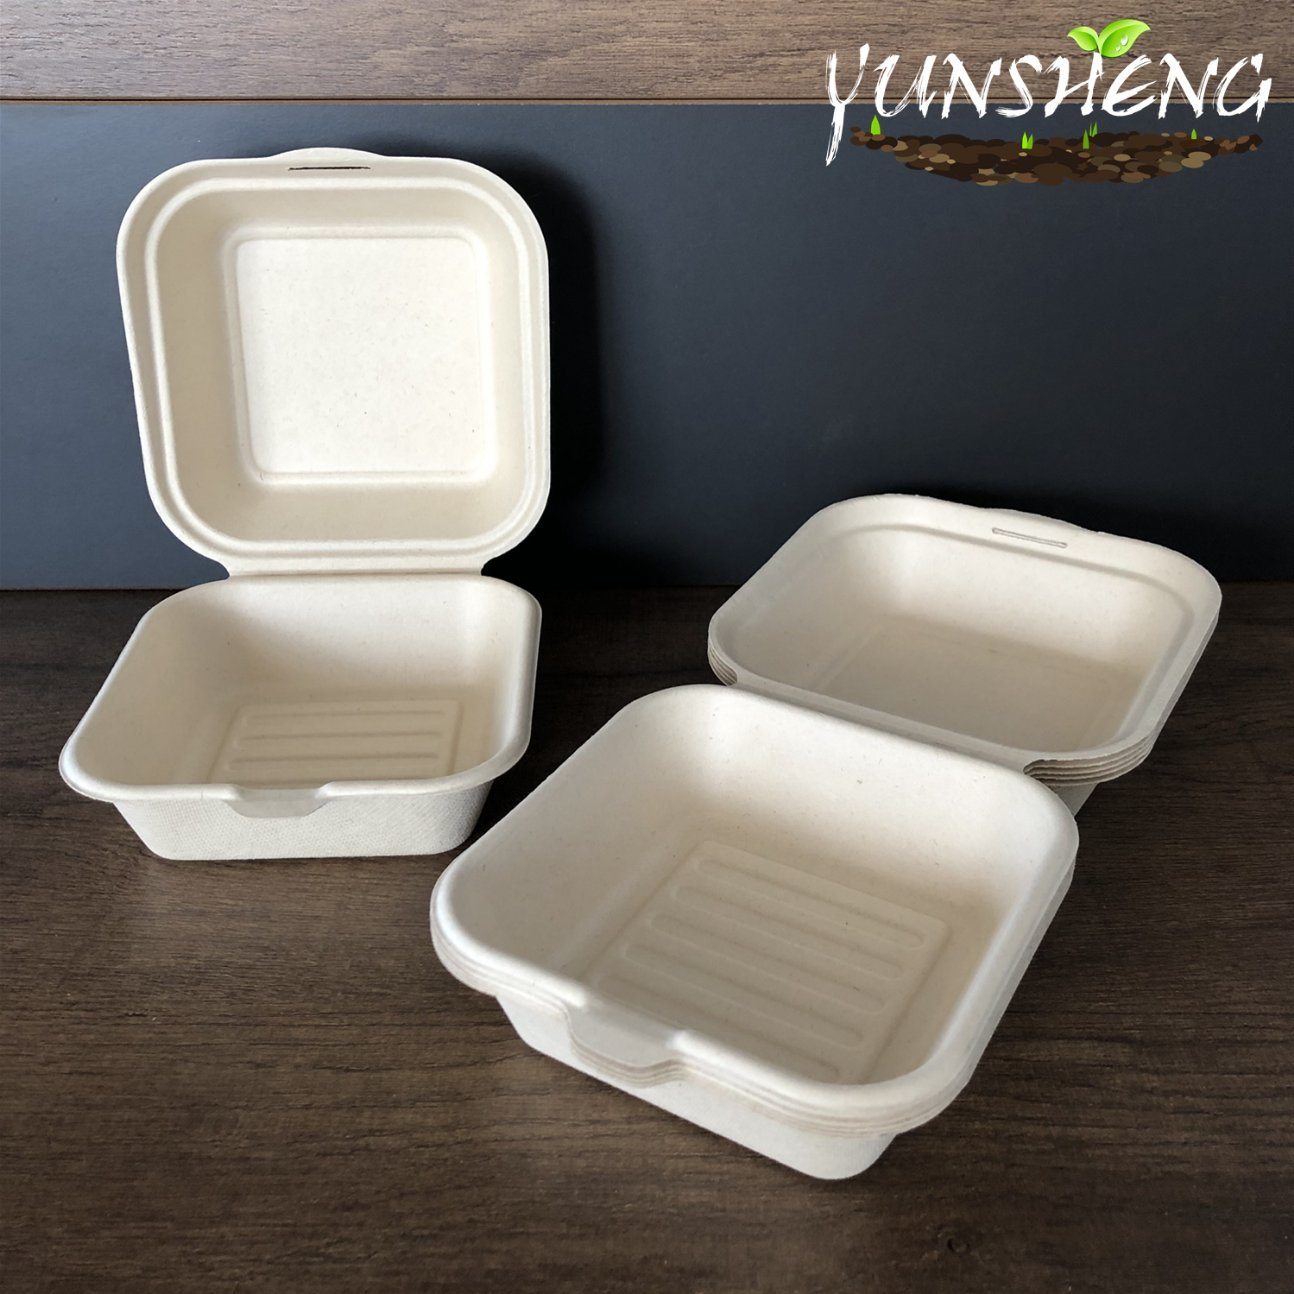styrofoam: (429, 486, 1225, 1184), (55, 146, 547, 870)
